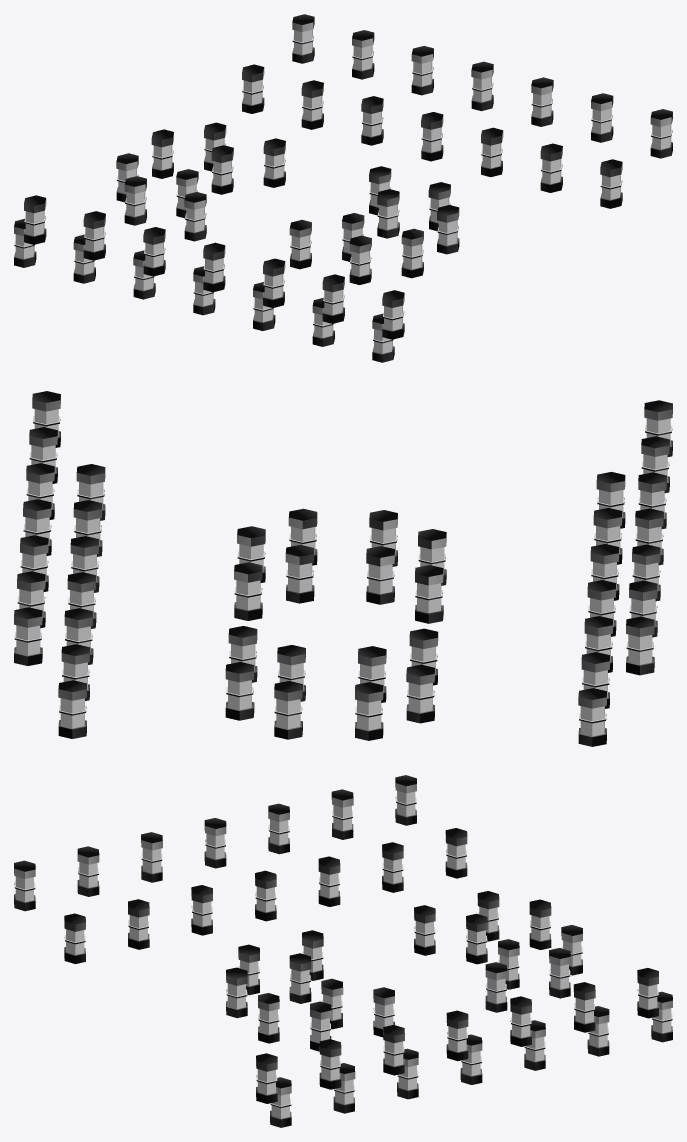
Rendered from VatsSeparated.fbx.
3 renders of one model, top to bottom at view 1: azimuth 30°, elevation 25°; view 2: azimuth 150°, elevation 25°; view 3: azimuth 270°, elevation 25°, orthographic. The views are drawn at different scales.
Parts seen in each view (by area): view 1: no part large enough to name; view 2: Plant vessel.114, Plant vessel.092, Plant vessel.127, Plant vessel.132, Plant vessel.129, Plant vessel.093, Plant vessel.094, Plant vessel.095, Plant vessel.125, Plant vessel.134, Plant vessel.101, Plant vessel.122 (+28 smaller); view 3: no part large enough to name.
Part boxes in pixels (x1=…): Plant vessel.114: x1=59, y1=698, x2=86, y2=728; Plant vessel.092: x1=579, y1=706, x2=606, y2=736; Plant vessel.127: x1=234, y1=580, x2=262, y2=610; Plant vessel.132: x1=367, y1=564, x2=394, y2=594; Plant vessel.129: x1=274, y1=699, x2=302, y2=729; Plant vessel.093: x1=407, y1=682, x2=434, y2=712; Plant vessel.094: x1=355, y1=700, x2=382, y2=730; Plant vessel.095: x1=14, y1=625, x2=41, y2=655; Plant vessel.125: x1=415, y1=583, x2=442, y2=613; Plant vessel.134: x1=286, y1=562, x2=313, y2=592; Plant vessel.101: x1=626, y1=634, x2=653, y2=664; Plant vessel.122: x1=226, y1=680, x2=253, y2=710.
Bounding box in the file's own units: 5560 × 762 × 5349.
